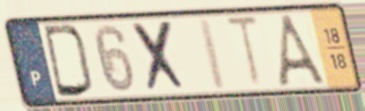6: (92, 23, 138, 96)
A: (276, 12, 333, 88)
D: (40, 23, 96, 99)
I: (196, 16, 230, 93)
T: (223, 14, 264, 91)
X: (129, 19, 191, 96)
